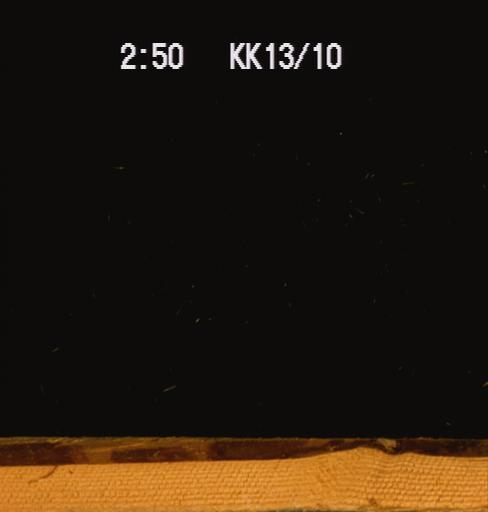wave: (0, 436, 487, 463)
